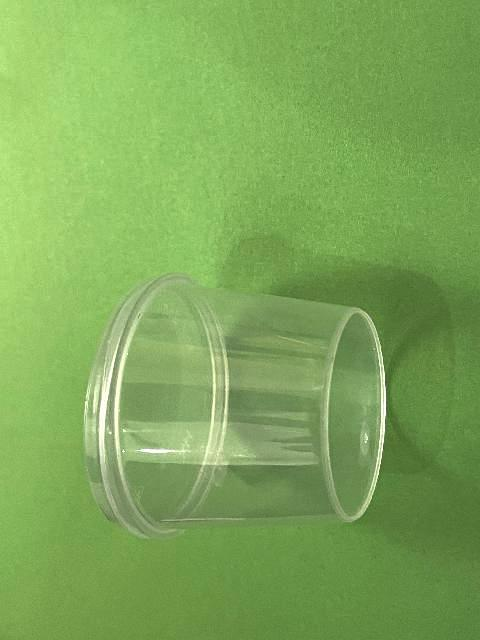plasticcontainer: (79, 266, 389, 542)
